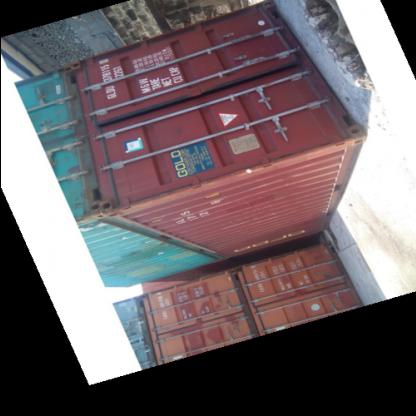Damage: (96, 190, 177, 224), (172, 166, 254, 192)
